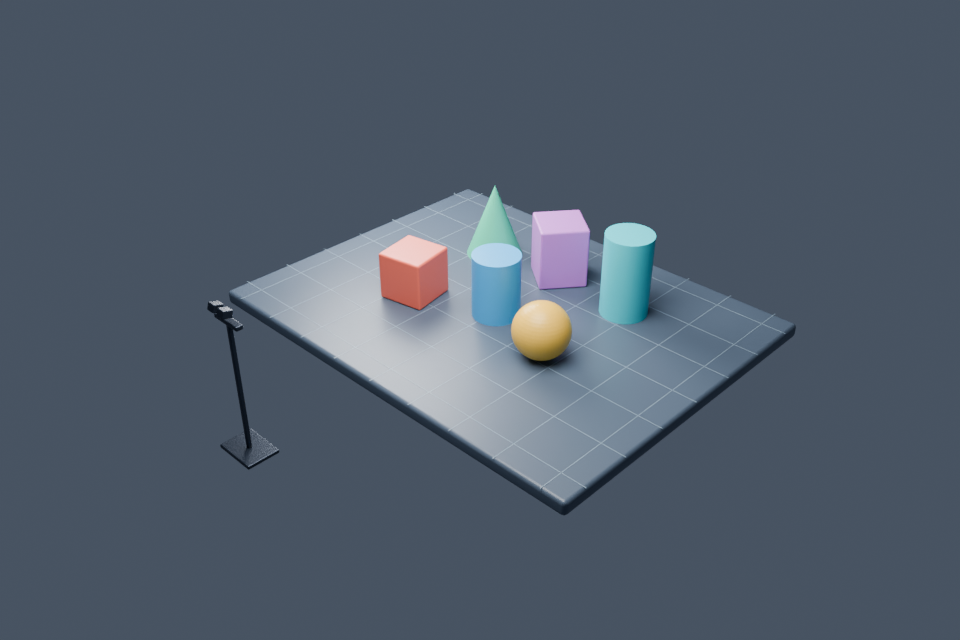cone: (467, 186, 522, 259)
cube: (379, 235, 448, 310), (531, 210, 590, 290)
cylinder: (599, 223, 656, 324), (471, 243, 522, 326)
sphere: (511, 300, 572, 361)
